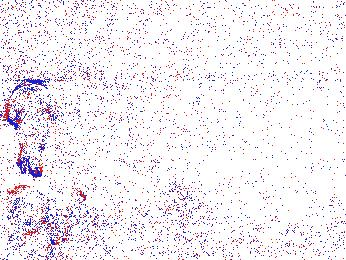flame jellyfish: (5, 83, 63, 178), (37, 191, 89, 246), (6, 187, 47, 239)
